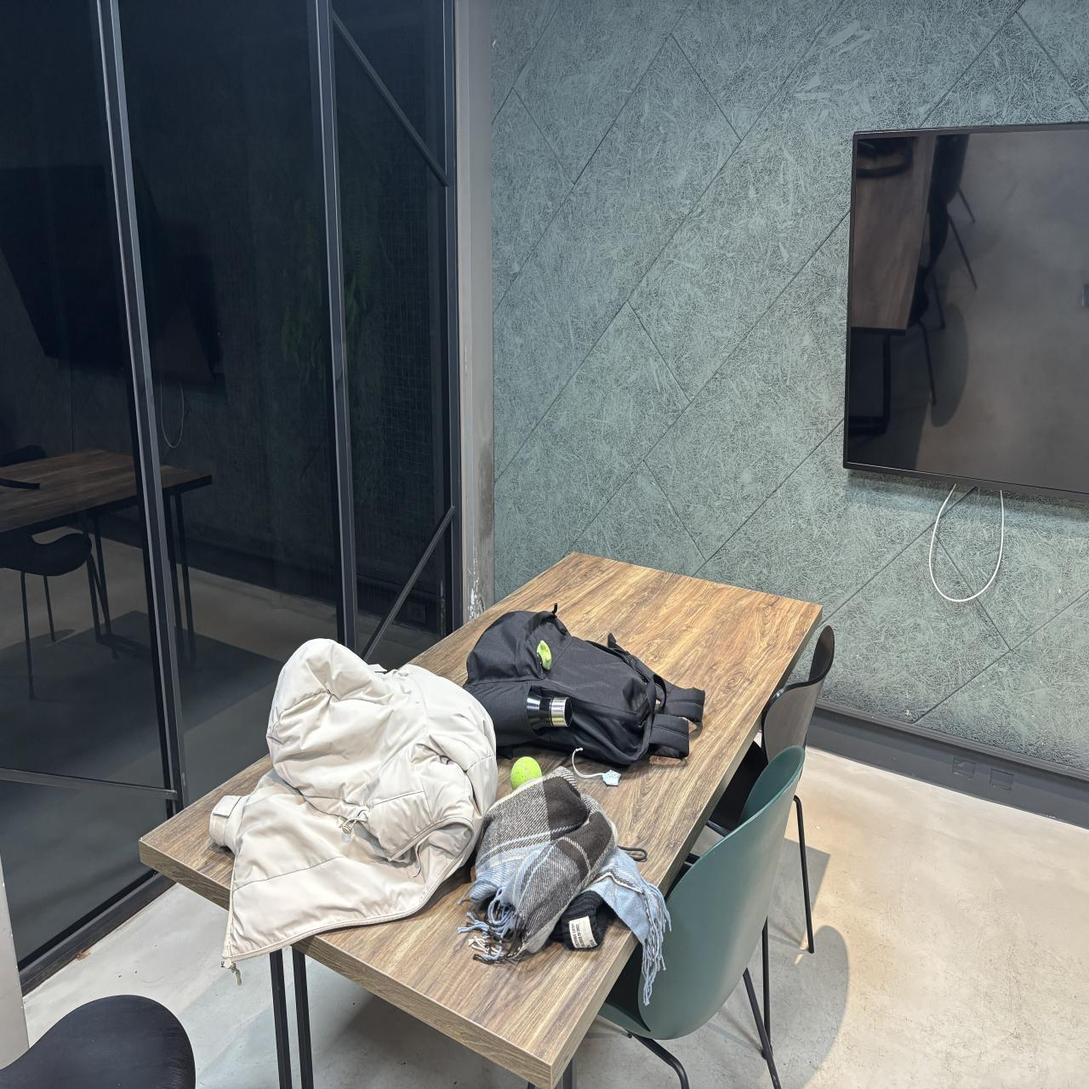tennisball: (510, 756, 542, 790)
